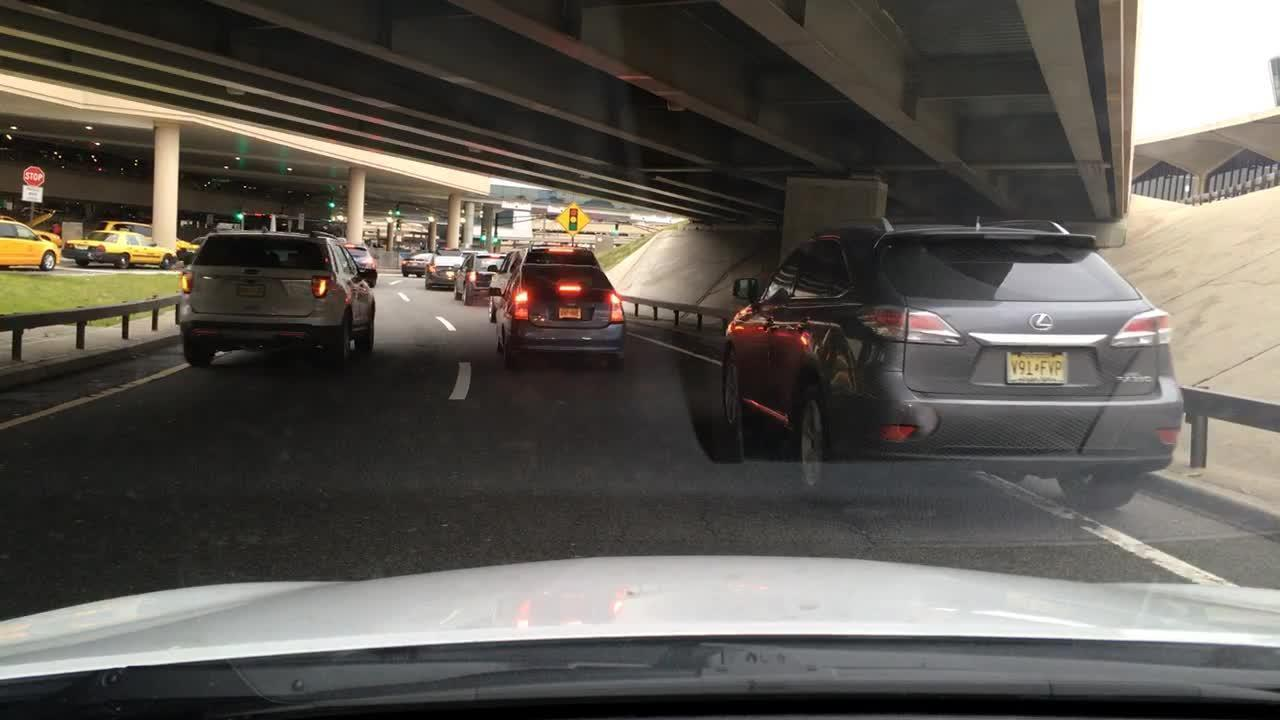lexus: (1027, 305, 1058, 335)
